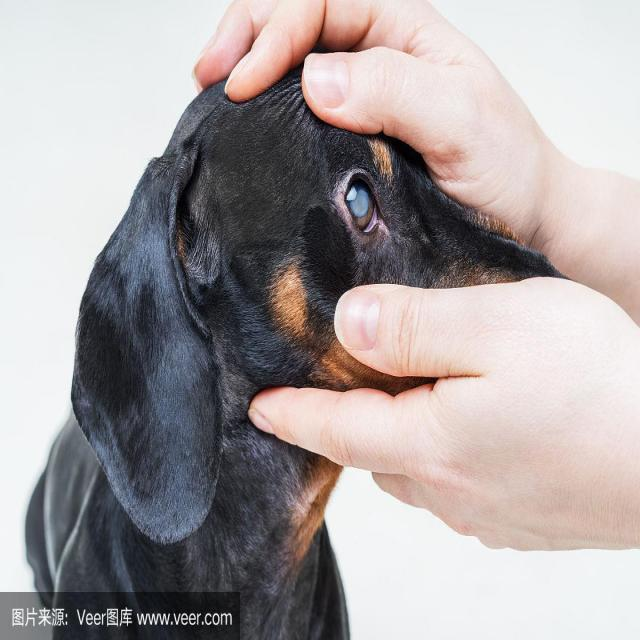eye: (338, 167, 384, 240)
